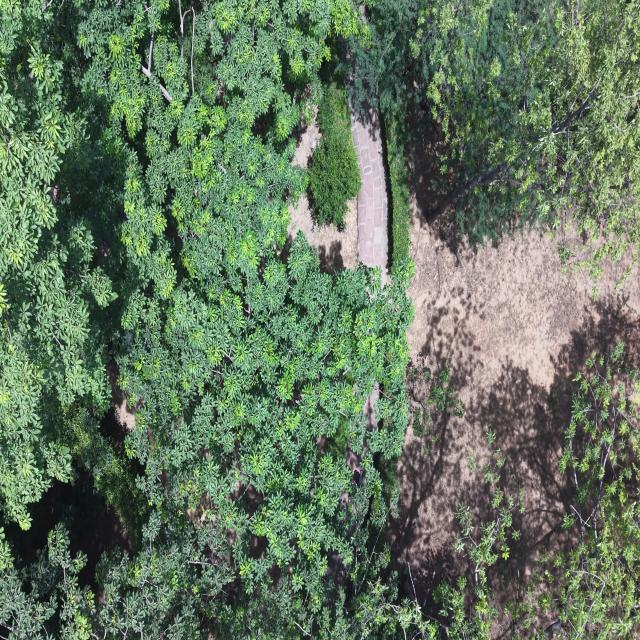DRY_AREA: (389, 171, 639, 603), (389, 198, 639, 602), (408, 141, 639, 384), (408, 220, 639, 387), (288, 109, 387, 281), (281, 114, 386, 273), (287, 108, 387, 273), (287, 110, 387, 272), (282, 119, 385, 272), (11, 470, 133, 594), (12, 469, 134, 592), (45, 470, 133, 581), (282, 179, 385, 272), (33, 474, 131, 571), (350, 105, 389, 281), (350, 106, 388, 283), (351, 108, 387, 282), (281, 194, 359, 272), (351, 109, 387, 272), (282, 195, 358, 272), (283, 196, 358, 272), (287, 195, 357, 271), (83, 506, 132, 570), (100, 360, 135, 444), (105, 361, 135, 431), (291, 107, 320, 169), (113, 394, 135, 431)
PATHWAYS: (351, 109, 387, 282)
VEGETATION_TREE: (0, 0, 639, 639), (0, 0, 411, 637), (60, 3, 410, 637), (98, 235, 411, 637), (352, 0, 639, 279), (426, 343, 639, 639), (0, 2, 115, 529), (544, 344, 639, 637), (452, 430, 524, 637), (54, 403, 148, 543), (0, 524, 93, 639), (307, 82, 360, 230), (407, 365, 464, 454), (384, 118, 410, 263)
